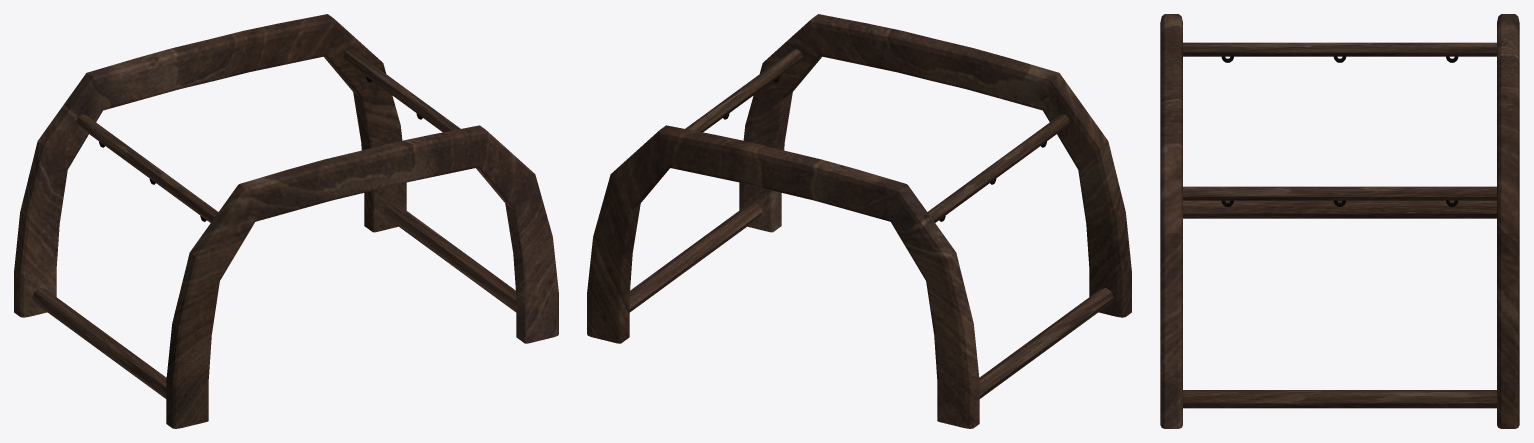
Rendered from asset_complex.gltf.
3 views of the same model, side by side, from view 1: azimuth 30°, elevation 25°; view 2: azimuth 150°, elevation 25°; view 3: azimuth 270°, elevation 25° (orthographic). The views are drawn at different scales.
Visible parts, largest first — view 1: ActorBase; view 2: ActorBase; view 3: ActorBase.
Part boxes in pixels (left/top/right/bottom): ActorBase: left=14, top=14, right=558, bottom=428; ActorBase: left=587, top=14, right=1131, bottom=428; ActorBase: left=1160, top=14, right=1519, bottom=428.
Size of what is drawn, in the model's own units: 22 by 12.29 by 16.
2 materials, 1 textured.
